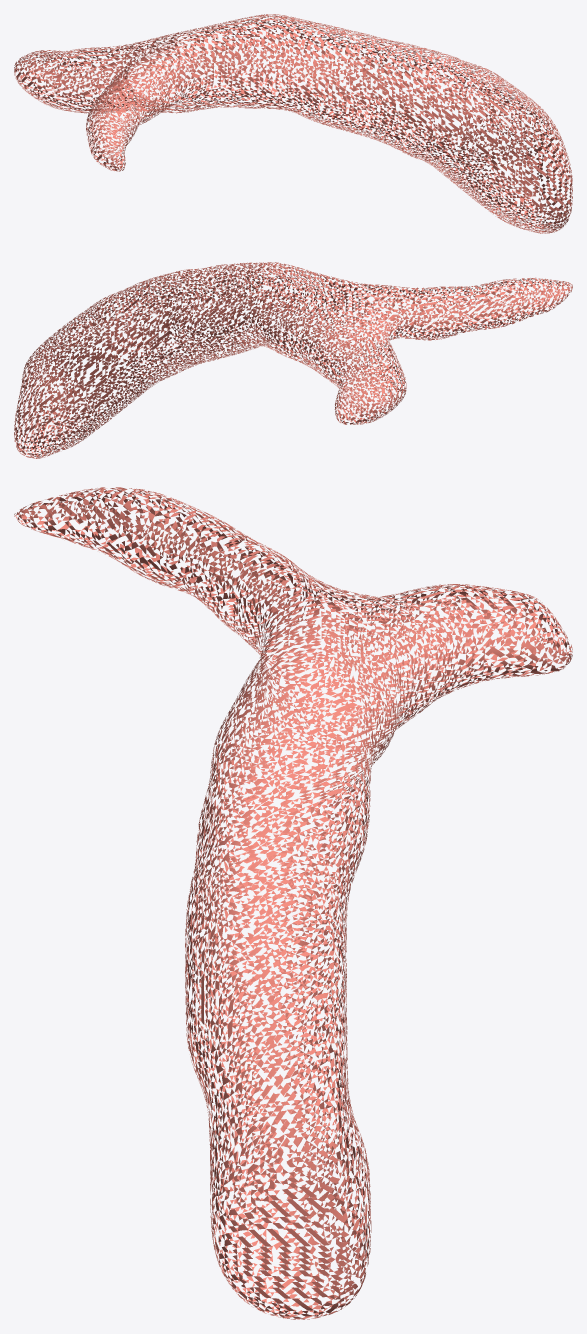
The model's file is diseased.glb.
The picture shows the model from 3 angles, top to bottom: view 1: azimuth 30°, elevation 25°; view 2: azimuth 150°, elevation 25°; view 3: azimuth 270°, elevation 25°; orthographic projection. The views are drawn at different scales.
Bounding box in the file's own units: 113 × 56.36 × 63.84.
